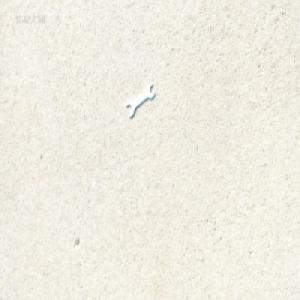Wrench: (126, 82, 156, 118)
